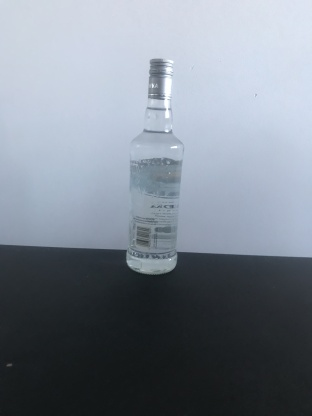nakretka: (146, 56, 175, 101)
